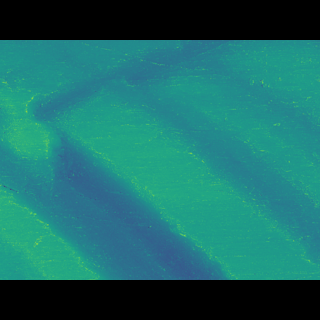Loch: (0, 102, 243, 250), (177, 126, 319, 240)
